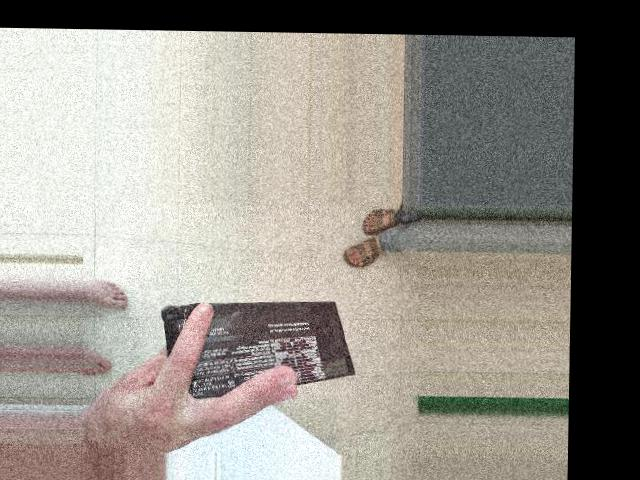chocolate: (220, 198, 327, 390)
